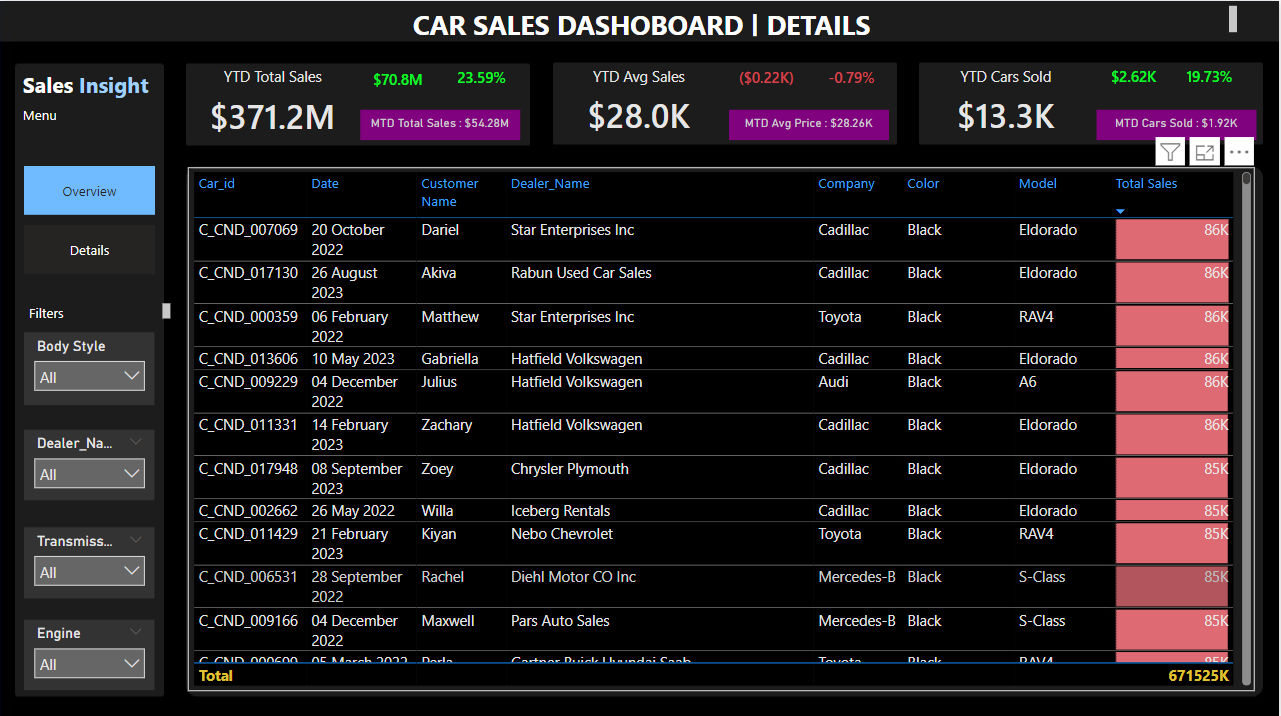

What the dashboard file says about the page in this screenshot:
{"tool":"powerbi","page":{"name":"Details","canvas":[1280,720],"ordinal":1},"visuals":[{"type":"card","title":"YTD Total Sales","fields":{"Values":["car_data.YTD Total Sales"]},"box":[187.5,65,172.5,80.6],"z":0},{"type":"card","fields":{"Values":["car_data.Sales Difference"]},"box":[362.9,65.7,72.9,28.6],"z":1000},{"type":"card","fields":{"Values":["car_data.YoY Sales Growth"]},"box":[446.4,65.5,72.7,28.2],"z":2000},{"type":"card","fields":{"Values":["car_data.MTD KPI"]},"box":[361.4,108.6,160,30],"z":3000},{"type":"card","title":"YTD Avg Sales","fields":{"Values":["car_data.YTD Avg Price"]},"box":[553.3,65.6,172.2,80],"z":4000},{"type":"card","fields":{"Values":["car_data.Avg price Diff"]},"box":[725.4,65.4,84.6,26.9],"z":5000},{"type":"card","fields":{"Values":["car_data.YoY avg Price Growth"]},"box":[810,65,85,27.5],"z":6000},{"type":"card","fields":{"Values":["car_data.MTD Avg Price KPI"]},"box":[730,108.8,160,30],"z":7000},{"type":"card","title":"YTD Cars Sold","fields":{"Values":["car_data.YTD Cars Sold"]},"box":[921.2,65,171.2,80],"z":8000},{"type":"card","fields":{"Values":["car_data.Cars Sold Diff"]},"box":[1092.9,64.3,84.3,27.1],"z":9000},{"type":"card","fields":{"Values":["car_data.YoY car sold growth"]},"box":[1167.1,64.3,85.7,27.1],"z":10000},{"type":"card","fields":{"Values":["car_data.MTD Cars Sold KPI"]},"box":[1097.1,108.6,160,30],"z":11000},{"type":"textbox","box":[50,0,1192.9,40],"z":12000},{"type":"slicer","fields":{"Values":["car_data.Body Style"]},"box":[24.6,330.8,130.8,73.1],"z":13000},{"type":"slicer","fields":{"Values":["car_data.Dealer_Name"]},"box":[24.6,429.2,130.8,70.8],"z":14000},{"type":"slicer","fields":{"Values":["car_data.Transmission"]},"box":[24.6,526.2,130.8,71.5],"z":15000},{"type":"slicer","fields":{"Values":["car_data.Engine"]},"box":[24.6,619.2,130.8,70.8],"z":16000},{"type":"tableEx","fields":{"Values":["car_data.Car_id","car_data.Date","car_data.Customer Name","car_data.Dealer_Name","car_data.Company","car_data.Color","car_data.Model","car_data.Total Sales"]},"box":[188.3,166.7,1068.3,523.3],"z":17000},{"type":"pageNavigator","box":[24.4,164.4,131.1,108.9],"z":18000},{"type":"textbox","box":[18.6,64.3,145.7,74.3],"z":19000},{"type":"textbox","box":[18.6,100,145.7,45.7],"z":20000},{"type":"textbox","box":[24.4,297.8,151.1,25.6],"z":21000}]}

Visuals, with their boxes on the page's 1280x720 design canvas (x1, y1, x2, y2). These are canvas units, not pixel positions in the 1281x716 screenshot, which may show the page scaled, cropped or inside an application window:
"YTD Total Sales" card: crop(188, 65, 360, 146)
card - car_data.Sales Difference: crop(363, 66, 436, 94)
card - car_data.YoY Sales Growth: crop(446, 66, 519, 94)
card - car_data.MTD KPI: crop(361, 109, 521, 139)
"YTD Avg Sales" card: crop(553, 66, 726, 146)
card - car_data.Avg price Diff: crop(725, 65, 810, 92)
card - car_data.YoY avg Price Growth: crop(810, 65, 895, 92)
card - car_data.MTD Avg Price KPI: crop(730, 109, 890, 139)
"YTD Cars Sold" card: crop(921, 65, 1092, 145)
card - car_data.Cars Sold Diff: crop(1093, 64, 1177, 91)
card - car_data.YoY car sold growth: crop(1167, 64, 1253, 91)
card - car_data.MTD Cars Sold KPI: crop(1097, 109, 1257, 139)
textbox: crop(50, 0, 1243, 40)
slicer - car_data.Body Style: crop(25, 331, 155, 404)
slicer - car_data.Dealer_Name: crop(25, 429, 155, 500)
slicer - car_data.Transmission: crop(25, 526, 155, 598)
slicer - car_data.Engine: crop(25, 619, 155, 690)
tableEx - car_data.Car_id x car_data.Date: crop(188, 167, 1257, 690)
pageNavigator: crop(24, 164, 156, 273)
textbox: crop(19, 64, 164, 139)
textbox: crop(19, 100, 164, 146)
textbox: crop(24, 298, 176, 323)
